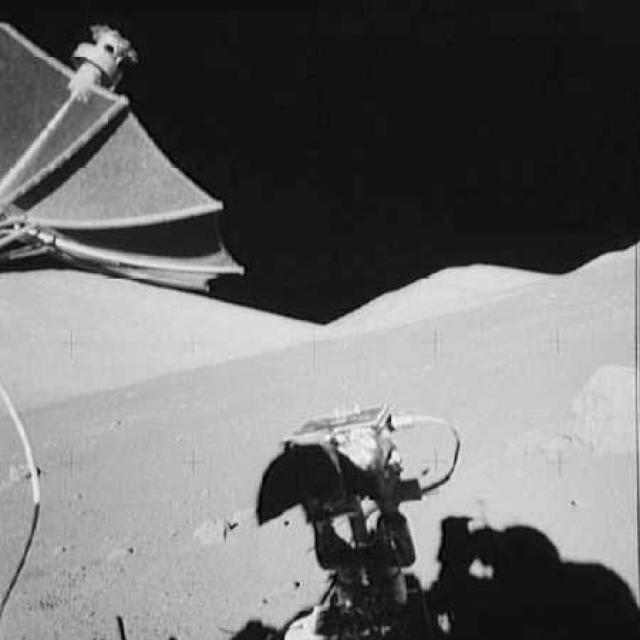artifact: (0, 15, 251, 301), (238, 400, 475, 638), (0, 382, 55, 627)
rock: (573, 353, 639, 455), (503, 419, 591, 454), (192, 512, 228, 547), (6, 455, 43, 485)
